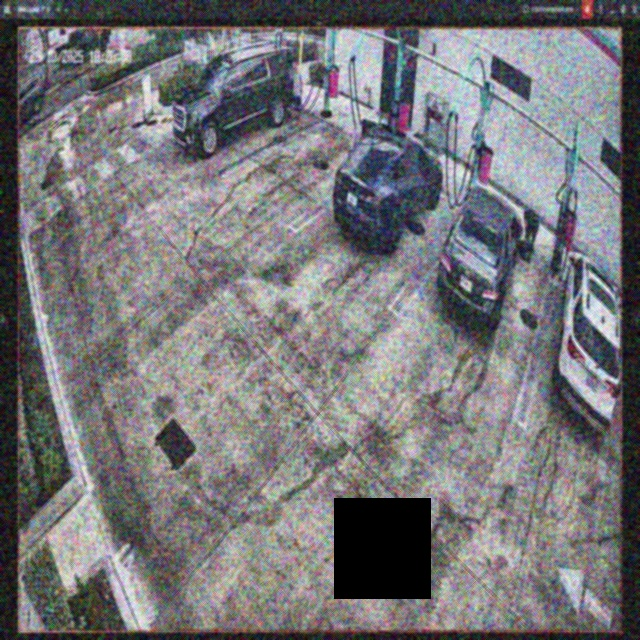Car: (334, 123, 441, 242), (437, 184, 522, 329)
